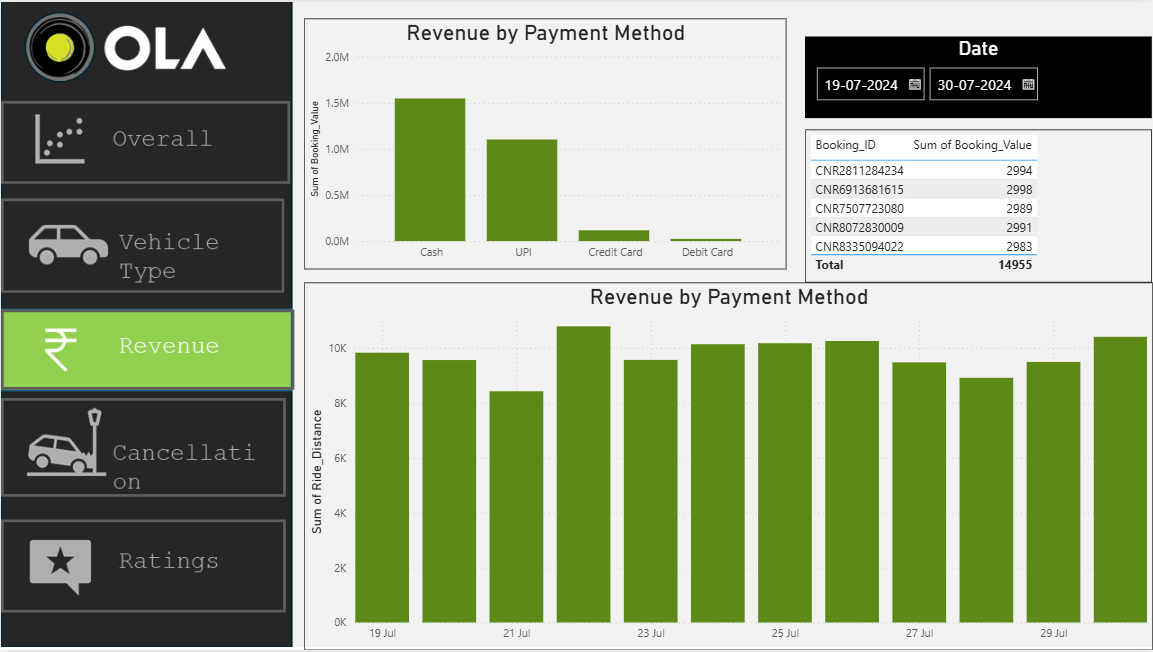

This screenshot's page, from the dashboard's own definition file:
{"tool":"powerbi","page":{"name":"Revenue ","canvas":[1280,720],"ordinal":2},"visuals":[{"type":"actionButton","box":[0,217.9,314.9,105],"z":0},{"type":"actionButton","box":[0,342,326.1,89.1],"z":1000},{"type":"actionButton","box":[0,575.8,316.5,103.4],"z":2000},{"type":"columnChart","title":"Revenue by Payment Method ","fields":{"Category":["July.Payment_Method"],"Y":["Sum(July.Booking_Value)"]},"box":[337.2,19.1,536,278.4],"z":3000},{"type":"columnChart","title":"Revenue by Payment Method ","fields":{"Category":["July.Date"],"Y":["Sum(July.Ride_Distance)"]},"box":[337.2,311.8,943.2,408.8],"z":4000},{"type":"slicer","title":"Date","fields":{"Values":["July.Date"]},"box":[893.9,37.8,385.5,90.7],"z":5000},{"type":"tableEx","fields":{"Values":["July.Booking_ID","Sum(July.Booking_Value)"]},"box":[893.9,141.7,385.5,170.1],"z":6000},{"type":"actionButton","box":[0,440.6,316.5,109.8],"z":7000},{"type":"actionButton","box":[0,109.8,321.3,92.3],"z":8000}]}

Visuals, with their boxes in screenshot pixels (x1, y1, x2, y2), scaled from the page's 1280x720 canvas onto the 1153x652 screenshot:
actionButton: pyautogui.locateOnScreen(0, 197, 284, 292)
actionButton: pyautogui.locateOnScreen(0, 310, 294, 390)
actionButton: pyautogui.locateOnScreen(0, 521, 285, 615)
"Revenue by Payment Method " columnChart: pyautogui.locateOnScreen(304, 17, 787, 269)
"Revenue by Payment Method " columnChart: pyautogui.locateOnScreen(304, 282, 1152, 651)
"Date" slicer: pyautogui.locateOnScreen(805, 34, 1152, 116)
tableEx - July.Booking_ID x Sum(July.Booking_Value): pyautogui.locateOnScreen(805, 128, 1152, 282)
actionButton: pyautogui.locateOnScreen(0, 399, 285, 498)
actionButton: pyautogui.locateOnScreen(0, 99, 289, 183)
